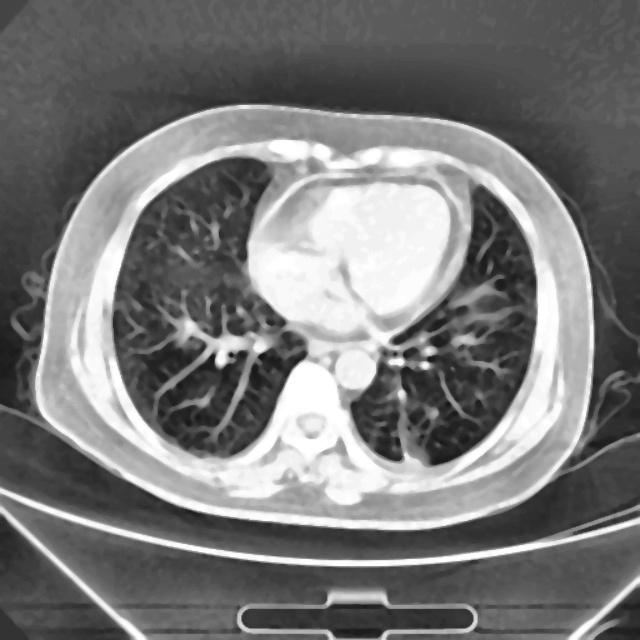covid: (31, 102, 597, 530)
